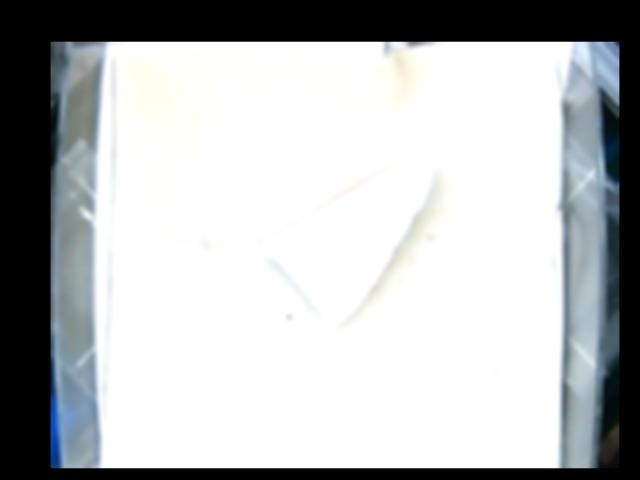China: (263, 152, 438, 327)
